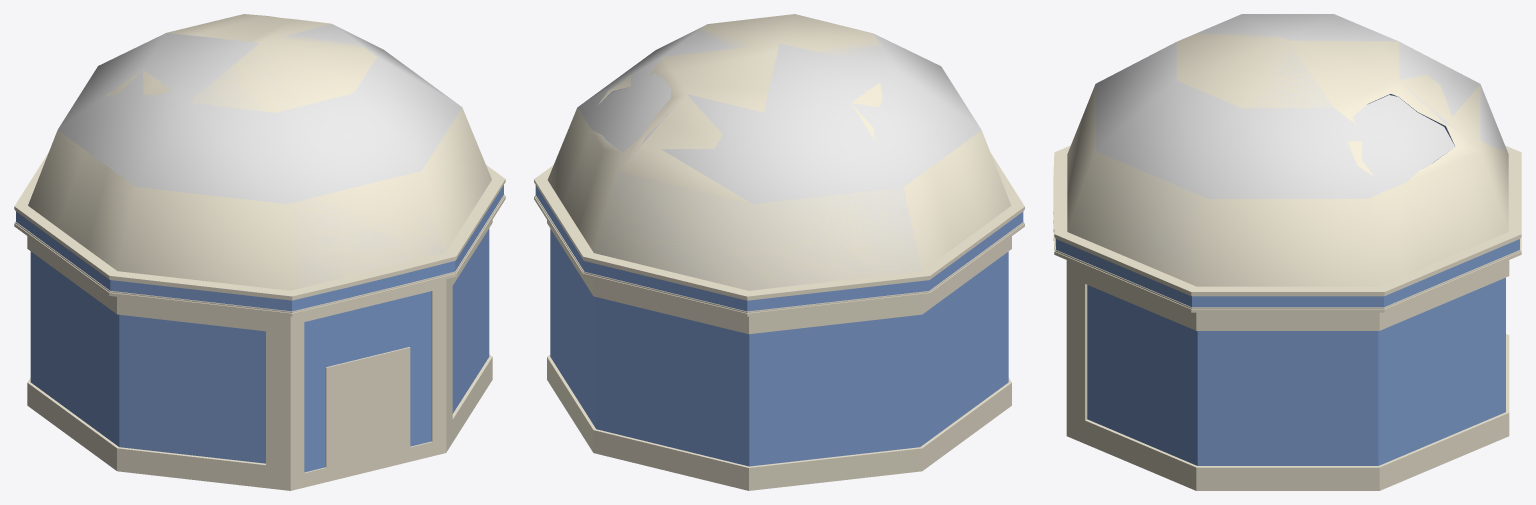
The model's file is P_LoopHouse_closed.fbx.
The picture shows the model from 3 angles, left to right: view 1: azimuth 30°, elevation 25°; view 2: azimuth 150°, elevation 25°; view 3: azimuth 270°, elevation 25°; orthographic projection. The views are drawn at different scales.
Parts seen in each view (by area): view 1: P_LoopHouse_close, P_RoofLoop_cut, P_RoofLoop_Full; view 2: P_LoopHouse_close, P_RoofLoop_Full, P_RoofLoop_cut; view 3: P_LoopHouse_close, P_RoofLoop_cut, P_RoofLoop_Full.
Boxes of the visible parts, box(x1,y1,x2,y2) form: P_LoopHouse_close: box(14, 152, 505, 490); P_RoofLoop_cut: box(28, 14, 491, 290); P_RoofLoop_Full: box(58, 23, 465, 288); P_LoopHouse_close: box(534, 153, 1024, 490); P_RoofLoop_Full: box(577, 24, 981, 289); P_RoofLoop_cut: box(547, 14, 1011, 290); P_LoopHouse_close: box(1053, 145, 1521, 490); P_RoofLoop_cut: box(1067, 14, 1508, 286); P_RoofLoop_Full: box(1083, 14, 1507, 285).
Size of the model in its own units: 896 by 755 by 898.
